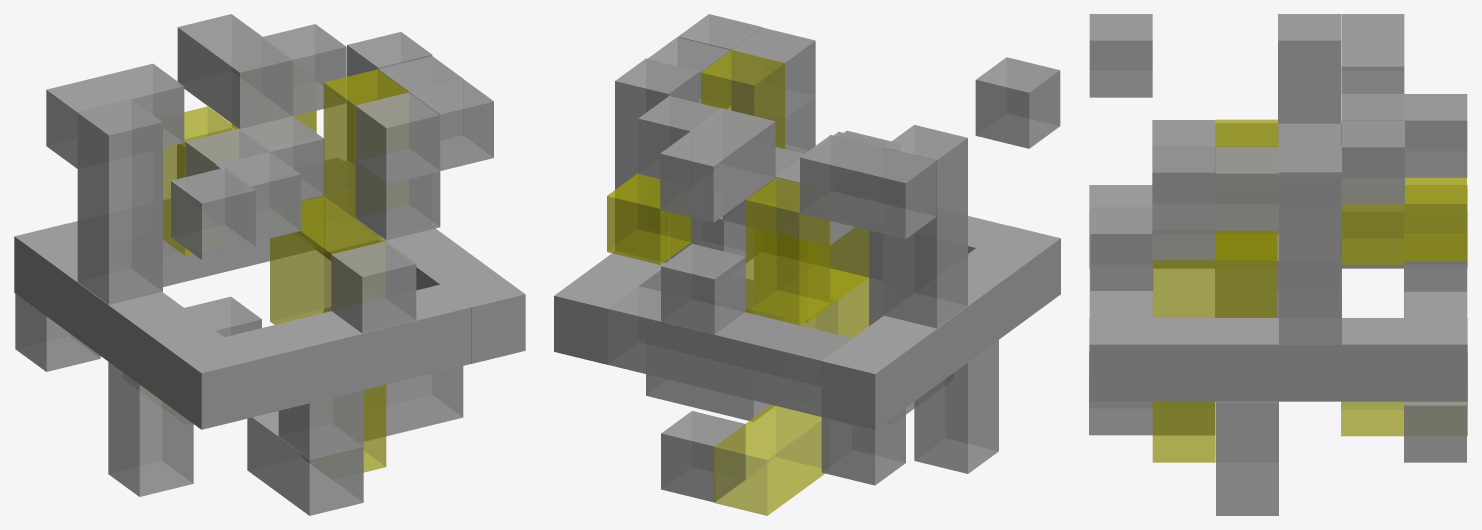
Rendered from LAB1.fbx.
3 views of the same model, side by side, from view 1: azimuth 30°, elevation 25°; view 2: azimuth 150°, elevation 25°; view 3: azimuth 270°, elevation 25° (orthographic).
Parts seen in each view (by area): view 1: pCube1; view 2: pCube1; view 3: pCube1.
Boxes of the visible parts, box(x1,y1,x2,y2) form: pCube1: box(14, 14, 525, 515); pCube1: box(554, 14, 1060, 515); pCube1: box(1089, 14, 1467, 515).
Size of the model in its own units: 6.01 by 6.02 by 6.01.
